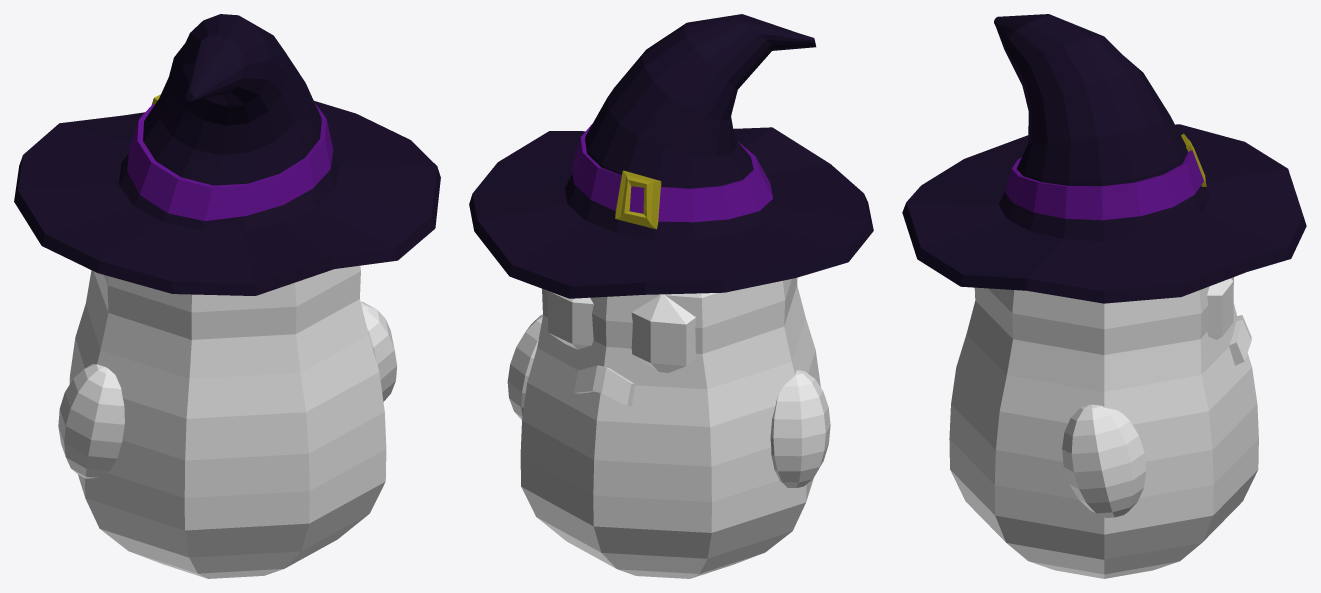
File: witchHat.fbx
3 renders of one model, left to right at view 1: azimuth 30°, elevation 25°; view 2: azimuth 150°, elevation 25°; view 3: azimuth 270°, elevation 25°, orthographic. The views are drawn at different scales.
Parts seen in each view (by area): view 1: Sphere, Cylinder, Cylinder.001, Sphere.004, Sphere.003; view 2: Sphere, Cylinder, Cylinder.001, Sphere.004, Sphere.001, Sphere.002, Sphere.003, Cube; view 3: Sphere, Cylinder, Sphere.003, Cylinder.001, Sphere.002, Cube.
Boxes of the visible parts, x1,y1,x2,y2 form: Sphere: (69,265,386,578); Cylinder: (14,14,440,295); Cylinder.001: (127,94,333,220); Sphere.004: (58,364,124,478); Sphere.003: (360,301,397,401); Sphere: (520,278,820,578); Cylinder: (469,14,873,298); Cylinder.001: (572,124,773,229); Sphere.004: (770,369,830,488); Sphere.001: (631,294,695,372); Sphere.002: (548,291,593,349); Sphere.003: (507,314,542,419); Cube: (574,365,634,406); Sphere: (949,277,1258,578); Cylinder: (902,14,1306,303); Sphere.003: (1062,404,1146,517); Cylinder.001: (1005,133,1206,220); Sphere.002: (1207,278,1233,339); Cube: (1229,315,1251,365).
Size of the model in its own units: 292 by 419 by 292.
